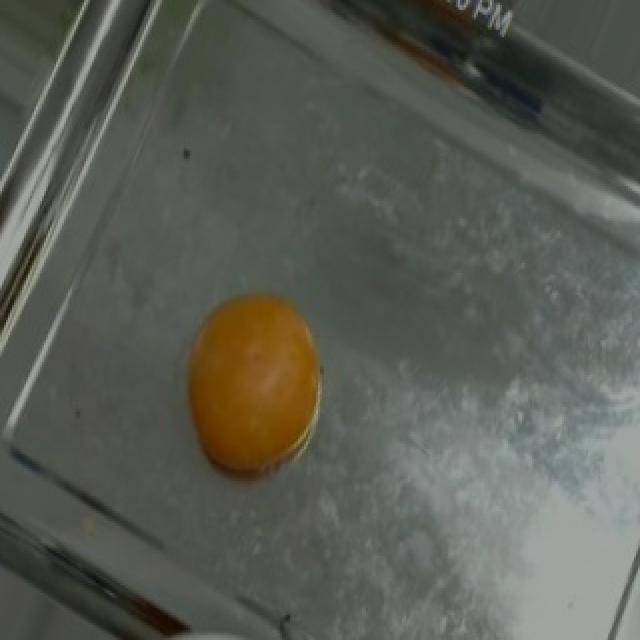Fruit: (166, 273, 342, 494)
